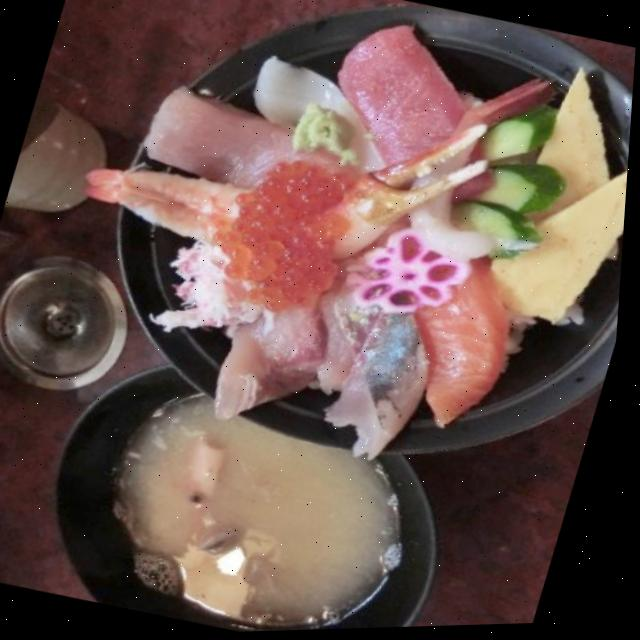刺身生食: (49, 0, 640, 513)
汤锅炖物: (0, 327, 499, 639)
